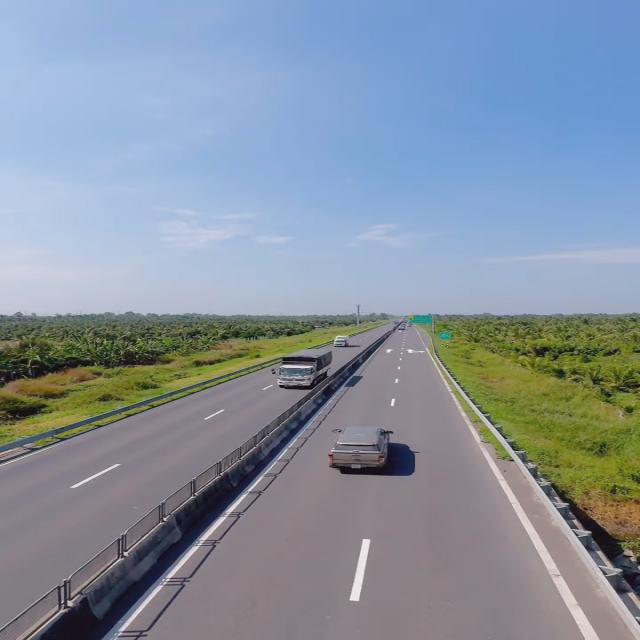car: (326, 426, 394, 476)
truck: (268, 346, 336, 388)
